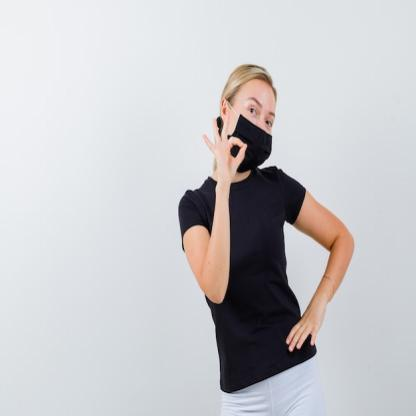ok: (201, 108, 250, 184)
